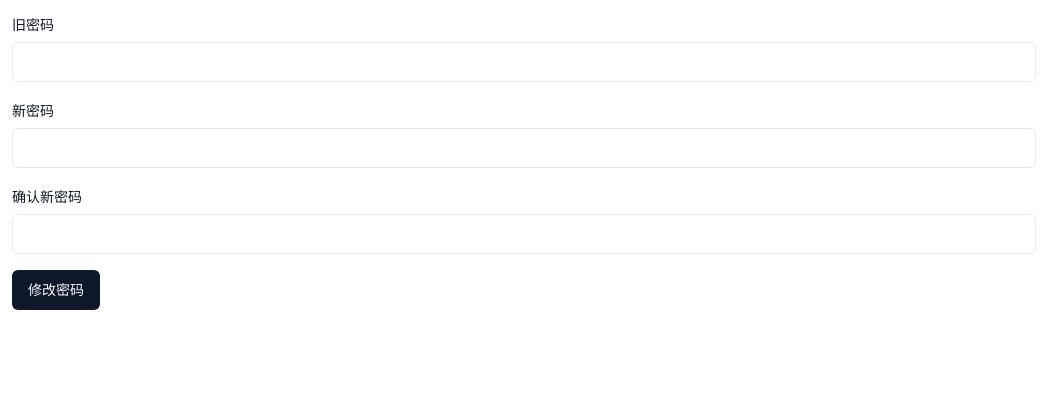
it: ChangePasswordForm › rejects weak new password
Type "Old12345" into the password field labelled "旧密码" at (524, 62), box [12, 42, 1036, 82]
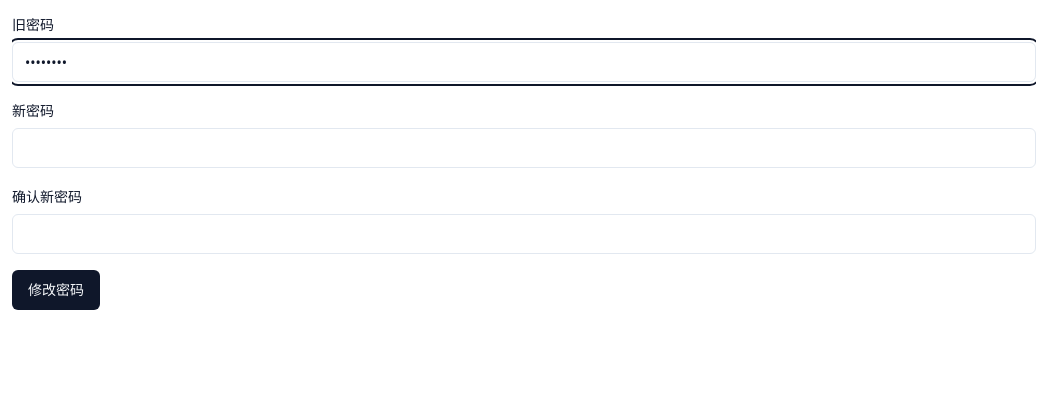
Type "weakpw" into the password field labelled "新密码" at (524, 148), box [12, 128, 1036, 168]
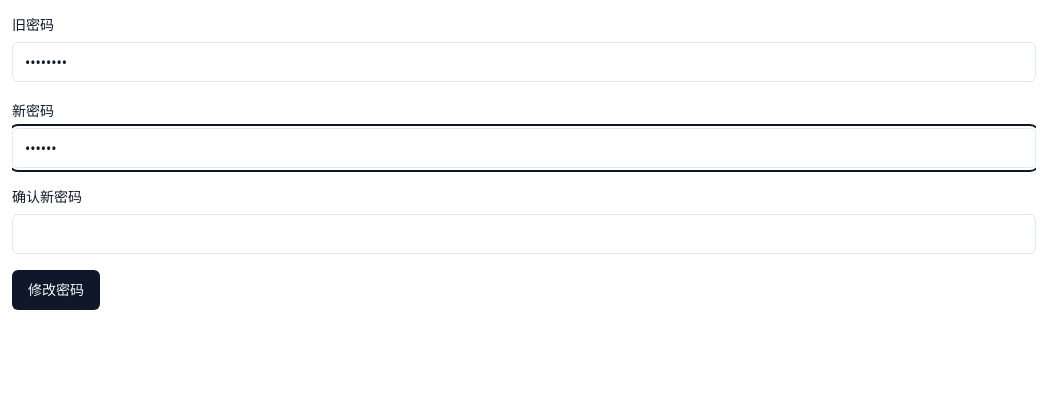
Type "weakpw" into the password field labelled "确认新密码" at (524, 234), box [12, 214, 1036, 254]
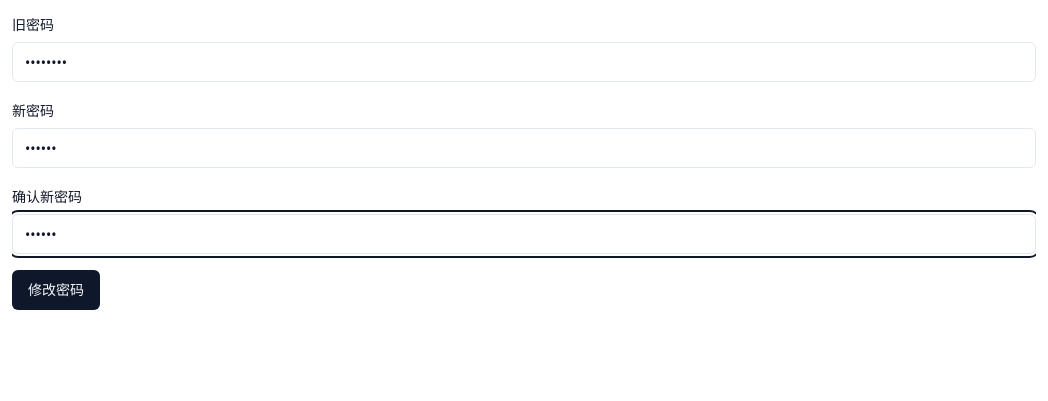
Click the button "修改密码" at (56, 290), box [12, 270, 100, 310]
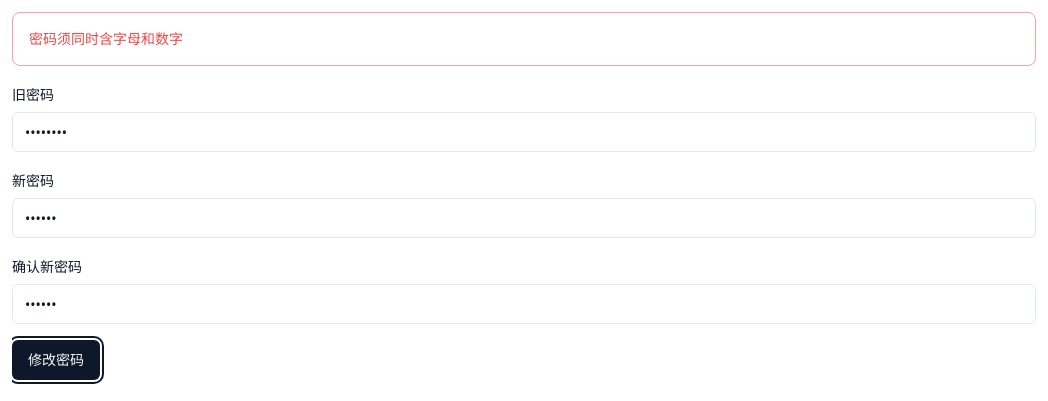
Result: the text "密码须同时含字母和数字" is shown at [29, 29, 183, 48]
